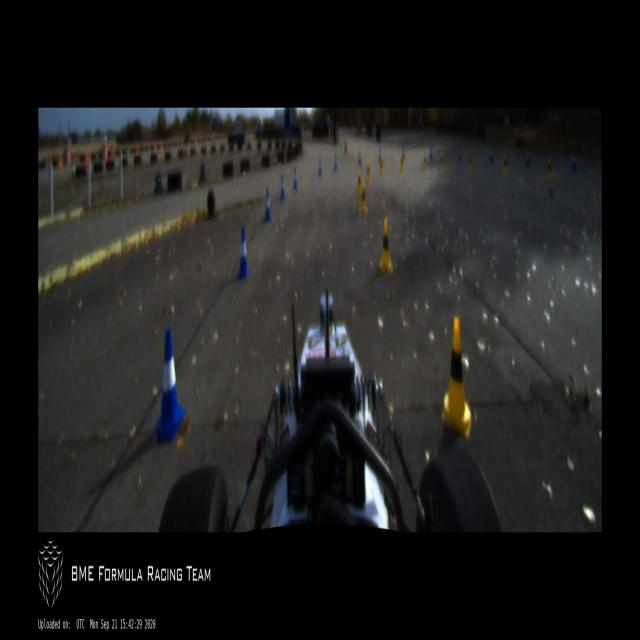blue_cone: (153, 328, 185, 443), (236, 227, 250, 281), (263, 189, 272, 220), (279, 174, 285, 198), (571, 148, 577, 167), (293, 168, 298, 190), (318, 158, 322, 177), (429, 144, 433, 162), (333, 155, 337, 171), (526, 148, 530, 164), (489, 148, 493, 163), (458, 145, 461, 161), (402, 145, 405, 160), (379, 144, 381, 160), (359, 152, 361, 166)
orange_cone: (71, 158, 75, 176)
unknown_cone: (344, 134, 348, 154)
yellow_cone: (442, 317, 472, 436), (378, 220, 392, 272), (358, 177, 367, 214), (502, 152, 509, 177), (467, 148, 473, 174), (365, 158, 371, 180), (357, 169, 362, 194), (440, 150, 445, 173), (422, 150, 427, 172), (547, 154, 552, 176), (379, 155, 384, 174), (399, 152, 404, 171)
